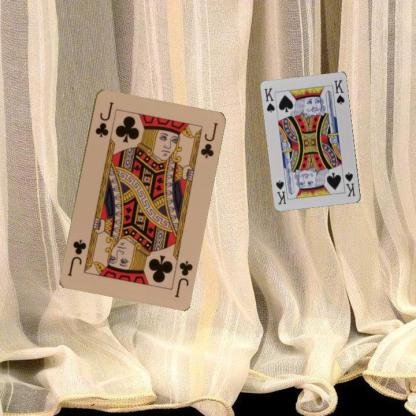Jc: (92, 99, 115, 138), (172, 258, 194, 298)
Ks: (262, 85, 276, 114), (343, 170, 357, 198)
